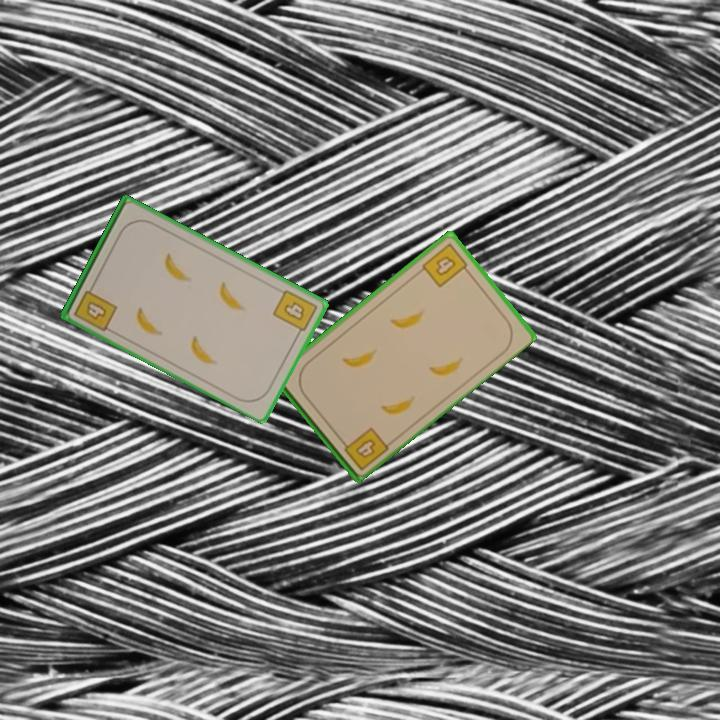4b: (418, 239, 473, 290), (269, 286, 320, 340), (336, 423, 391, 473), (70, 279, 120, 334)
